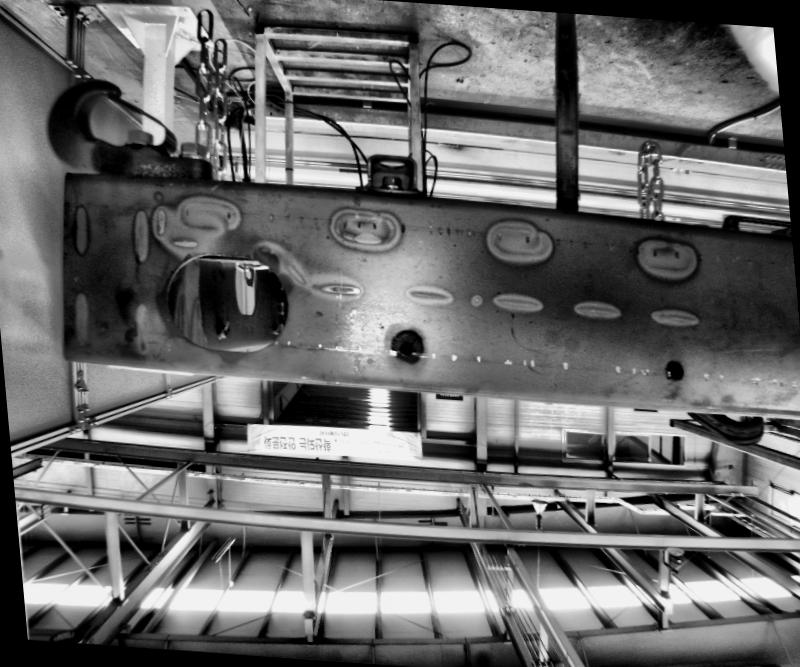bolt: (374, 170, 402, 189)
bracket: (340, 138, 436, 193)
hole: (146, 247, 294, 355), (394, 336, 414, 355), (665, 359, 683, 378)
